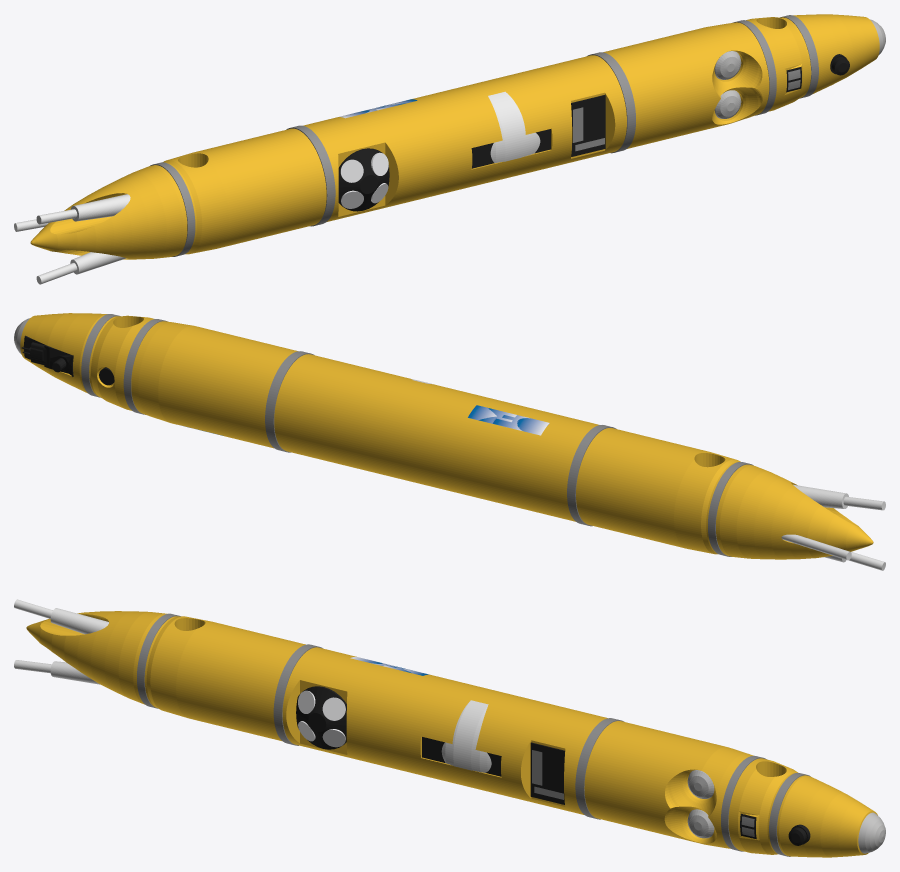
Rendered from deepleng.dae.
The picture shows the model from 3 angles, top to bottom: view 1: azimuth 30°, elevation 25°; view 2: azimuth 150°, elevation 25°; view 3: azimuth 330°, elevation 25°; orthographic projection.
Visible parts, largest first — view 1: visual_body, visual_rear_part, visual_rail_right, visual_rail_left; view 2: visual_body, visual_rail_right, visual_rail_middle; view 3: visual_body, visual_rear_part, visual_rail_right, visual_rail_left.
Part boxes in pixels (<box>): visual_body: <box>30,14,885,259</box>; visual_rear_part: <box>488,91,540,162</box>; visual_rail_right: <box>36,194,130,224</box>; visual_rail_left: <box>36,252,126,284</box>; visual_body: <box>14,313,873,559</box>; visual_rail_right: <box>793,484,885,510</box>; visual_rail_middle: <box>781,534,851,560</box>; visual_body: <box>26,611,885,857</box>; visual_rear_part: <box>441,700,491,772</box>; visual_rail_right: <box>14,599,108,634</box>; visual_rail_left: <box>14,660,99,684</box>.
Bounding box in the file's own units: 2.74 × 0.281 × 0.281.
Materials: 9 (6 with a texture image).
